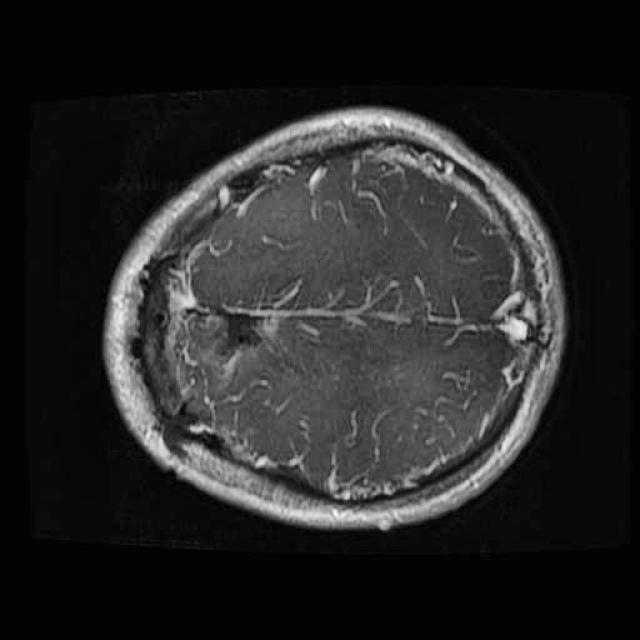Non-Tumor: (180, 238, 331, 416)
